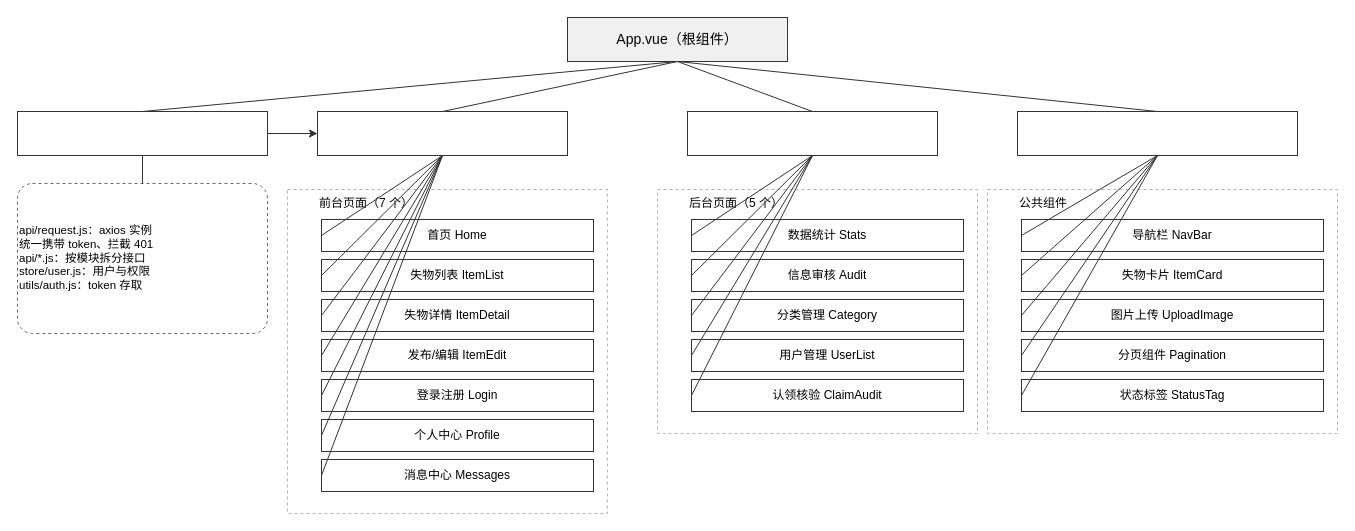
The diagram is 1355 pixels wide and 531 high, and some of its shapes have lost their labels. The shapes that lost their labels are listed below. From the top down, each one's centre as x and y in pixels, then its label:
At point 142,133: "router 路由 + pinia 状态".
At point 442,133: "FrontLayout 前台布局".
At point 812,133: "AdminLayout 后台布局".
At point 1157,133: "公共组件库 components".
